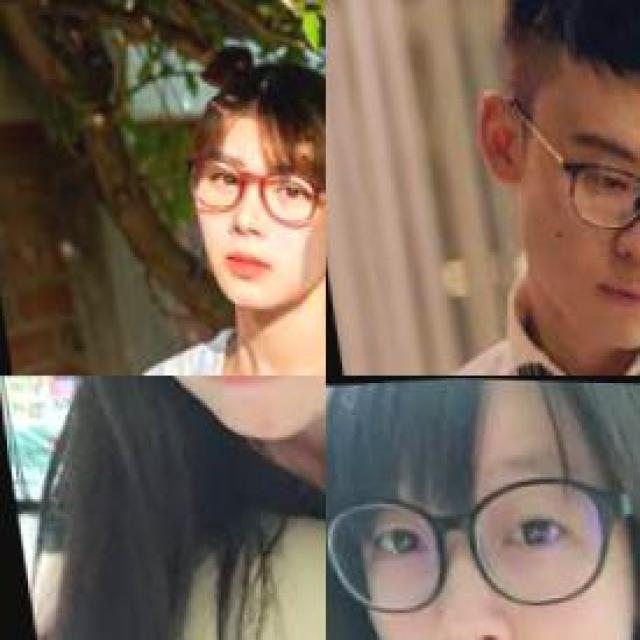glasses: (326, 452, 638, 630), (498, 74, 638, 267), (174, 128, 324, 240)
